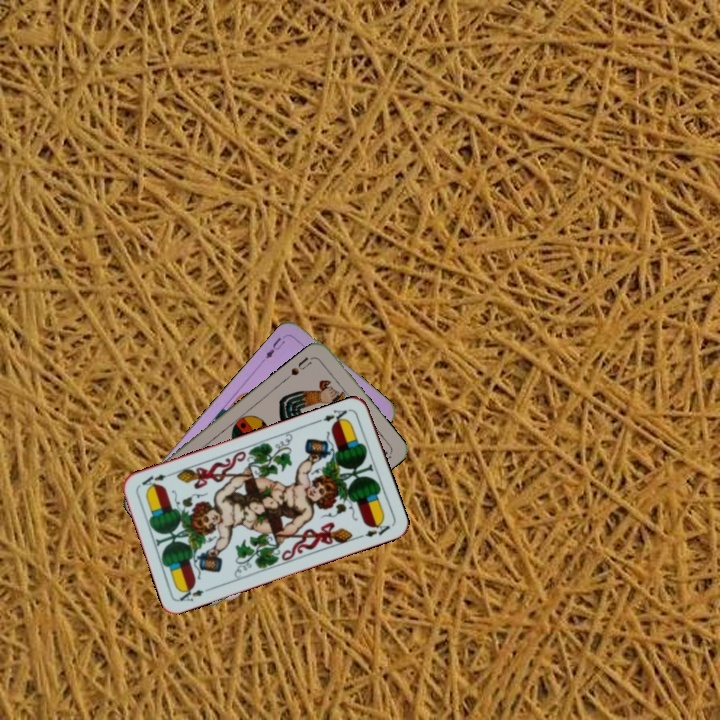EA: (314, 405, 353, 428), (175, 583, 215, 604)
EU: (260, 330, 290, 364)
SU: (287, 353, 317, 378)
